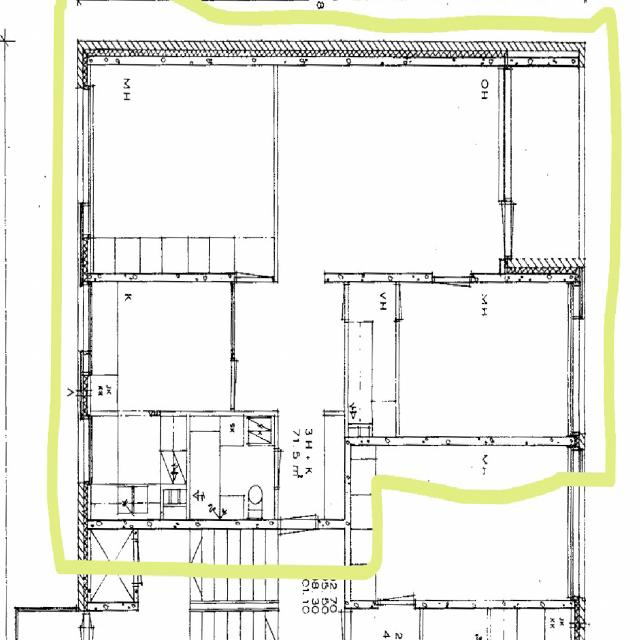door: (499, 204, 550, 256), (461, 204, 511, 256), (432, 273, 472, 336), (280, 520, 315, 578), (280, 471, 315, 529), (237, 226, 271, 282), (231, 360, 270, 408), (274, 450, 305, 486), (318, 284, 348, 319), (396, 284, 424, 319)
